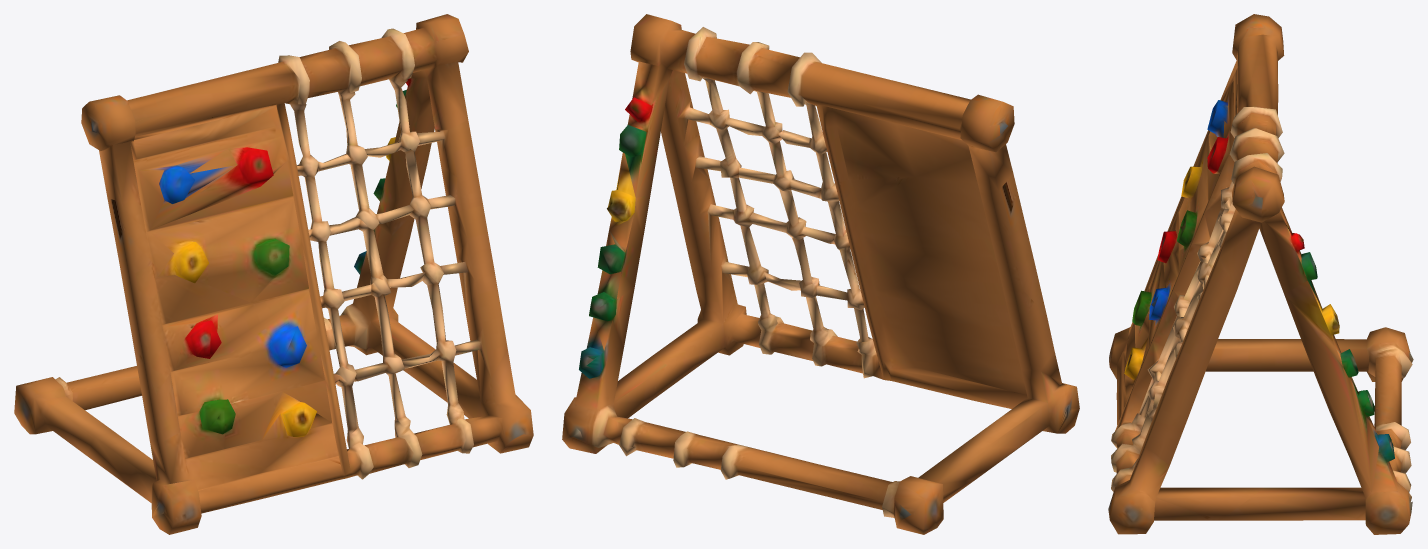
The model's file is climbing.glb.
3 renders of one model, left to right at view 1: azimuth 30°, elevation 25°; view 2: azimuth 150°, elevation 25°; view 3: azimuth 270°, elevation 25°, orthographic. The views are drawn at different scales.
Parts seen in each view (by area): view 1: model; view 2: model; view 3: model.
Part boxes in pixels (x1,y1,x2,y2): model: [14, 14, 533, 534]; model: [562, 14, 1079, 534]; model: [1108, 14, 1413, 534].
Size of the model in its own units: 1.88 by 1.87 by 1.45.
Materials: 1 (1 with a texture image).
